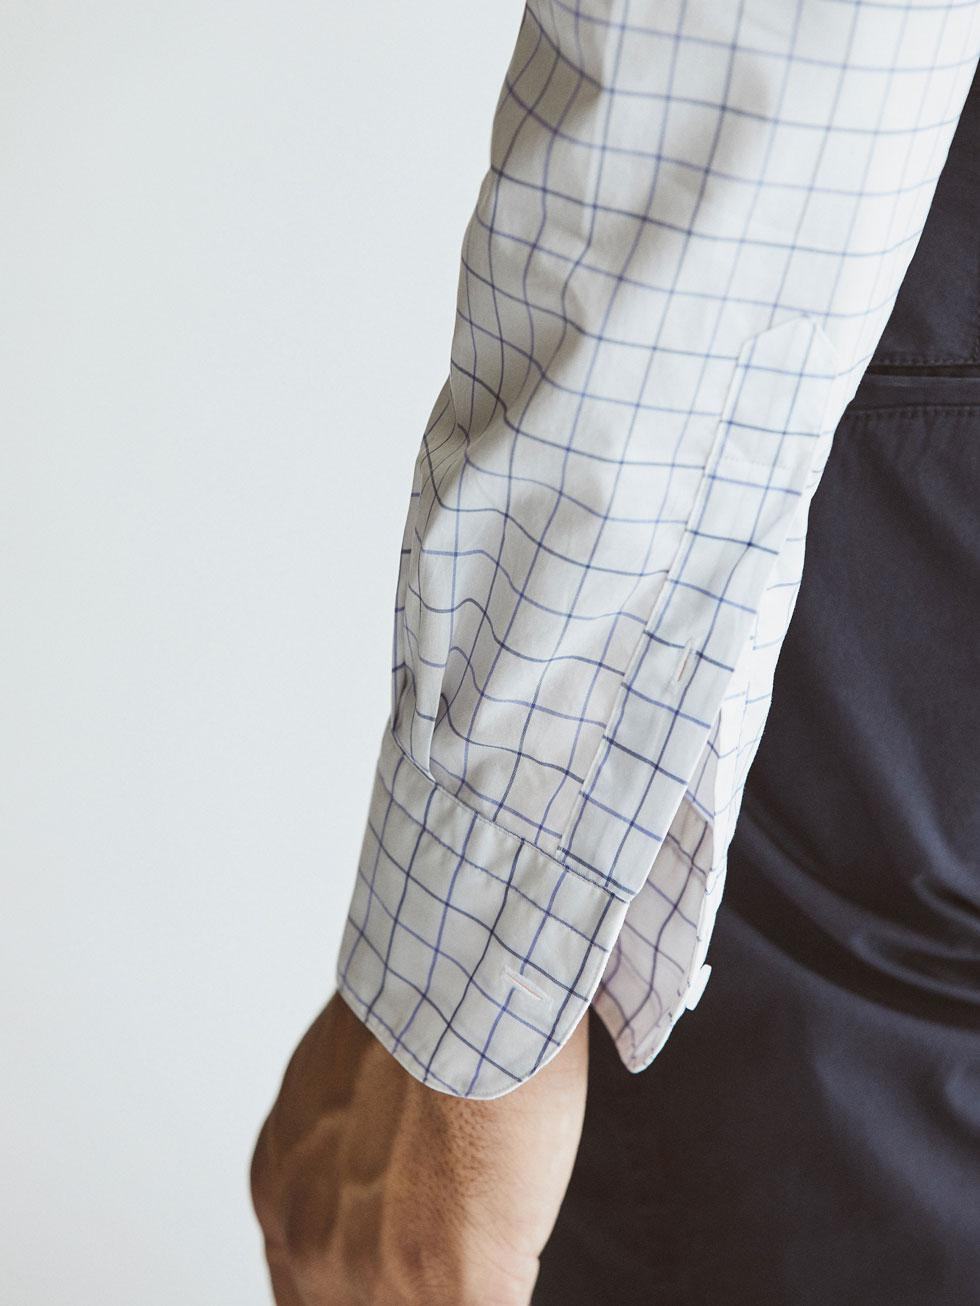teeshirt: (271, 8, 980, 1093)
